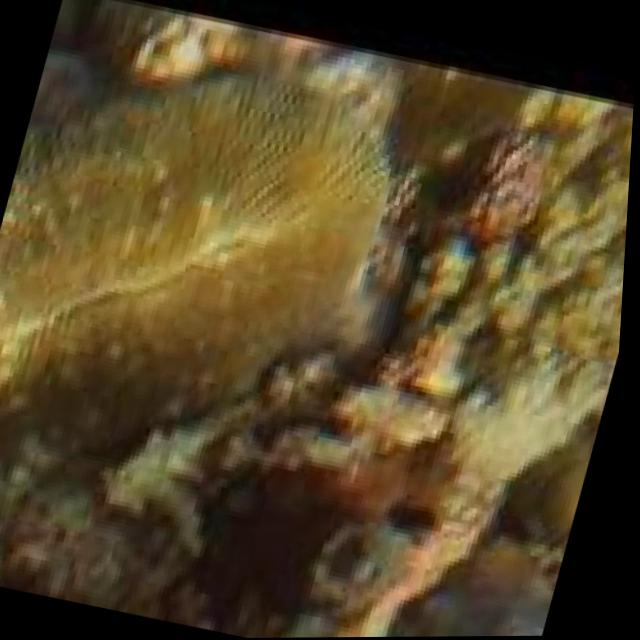Healthy Coral: (0, 20, 447, 530)
